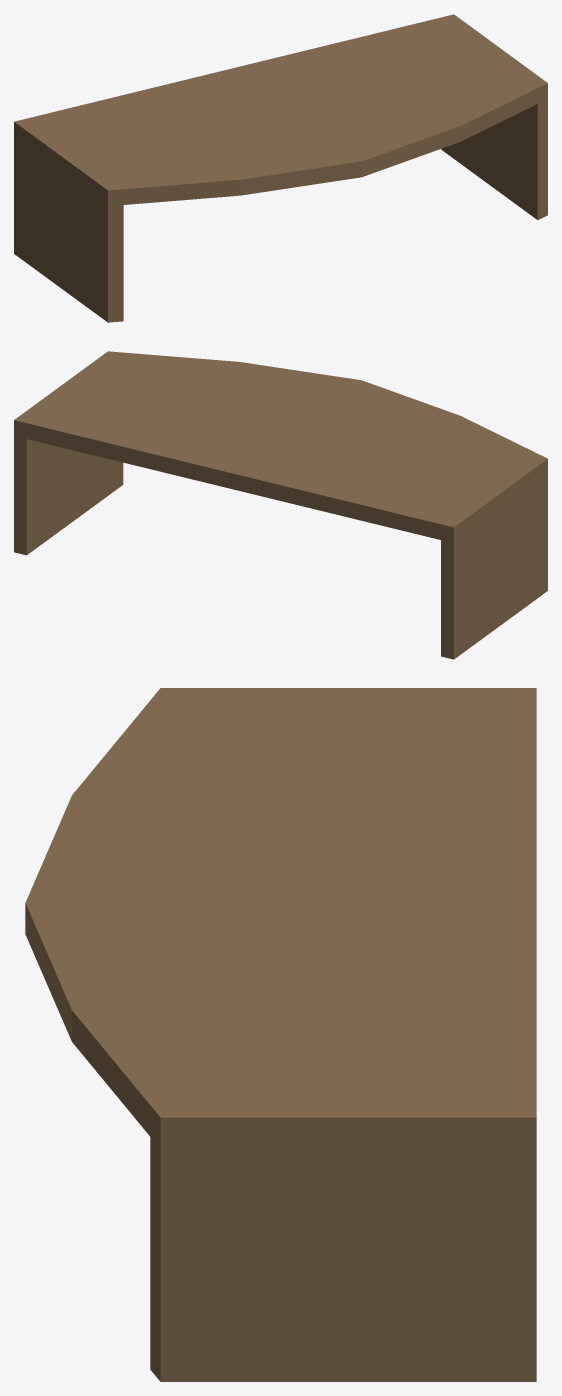
File: Desk.fbx
3 renders of one model, top to bottom at view 1: azimuth 30°, elevation 25°; view 2: azimuth 150°, elevation 25°; view 3: azimuth 270°, elevation 25°, orthographic. The views are drawn at different scales.
Parts seen in each view (by area): view 1: Desk; view 2: Desk; view 3: Desk.
Part boxes in pixels (<box>): Desk: <box>14,14,547,322</box>; Desk: <box>14,351,547,659</box>; Desk: <box>25,688,536,1381</box>.
Bounding box in the file's own units: 3.76 × 1.08 × 1.89.
